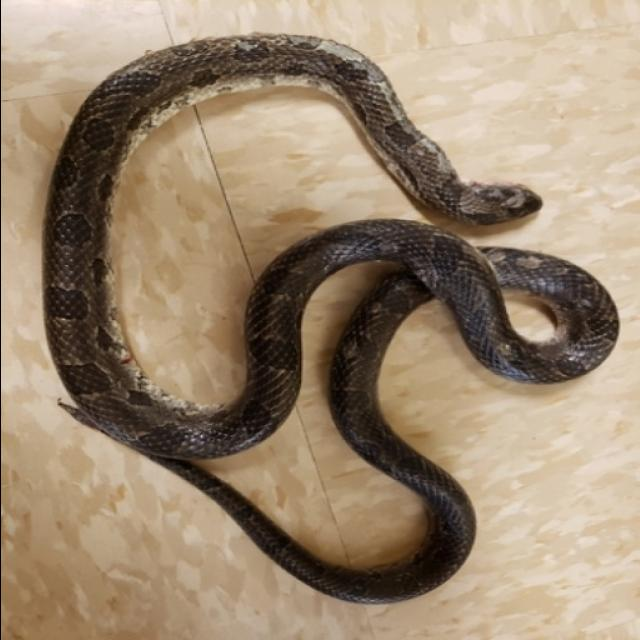snake: (38, 25, 626, 615)
